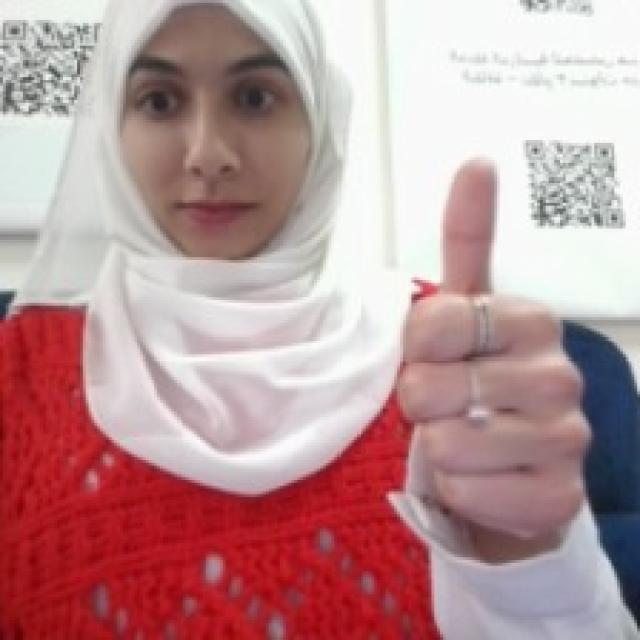fine: (392, 151, 597, 542)
